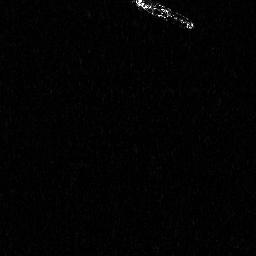ship: (132, 1, 195, 31)
